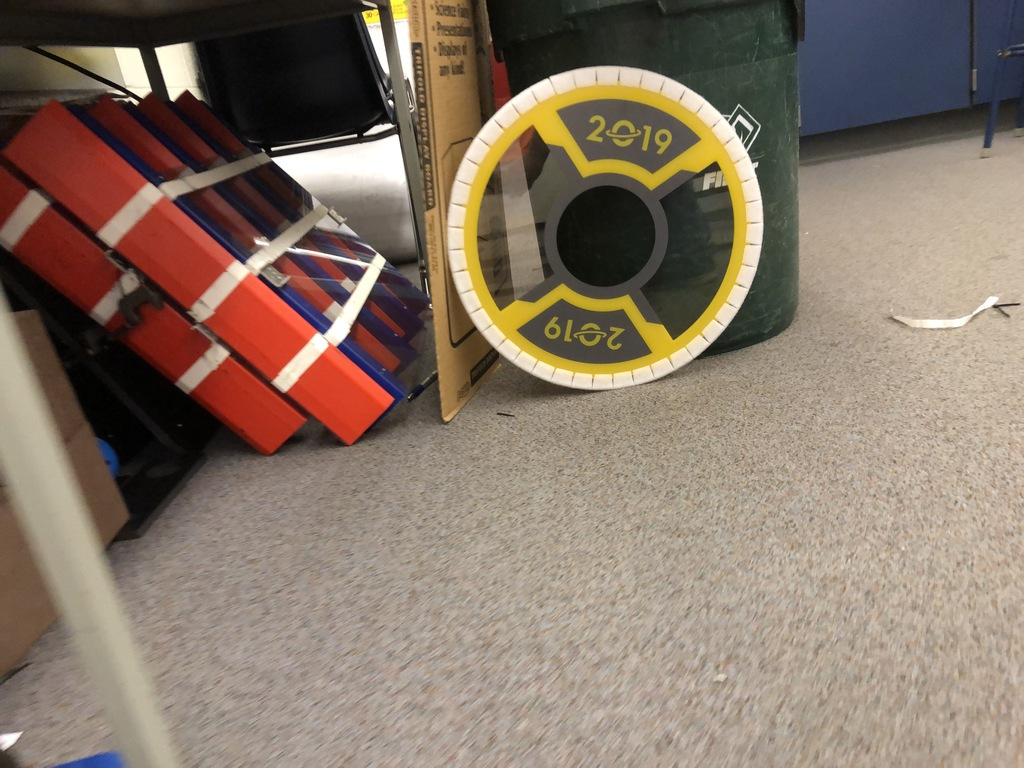hatch_panel: (428, 42, 797, 405)
